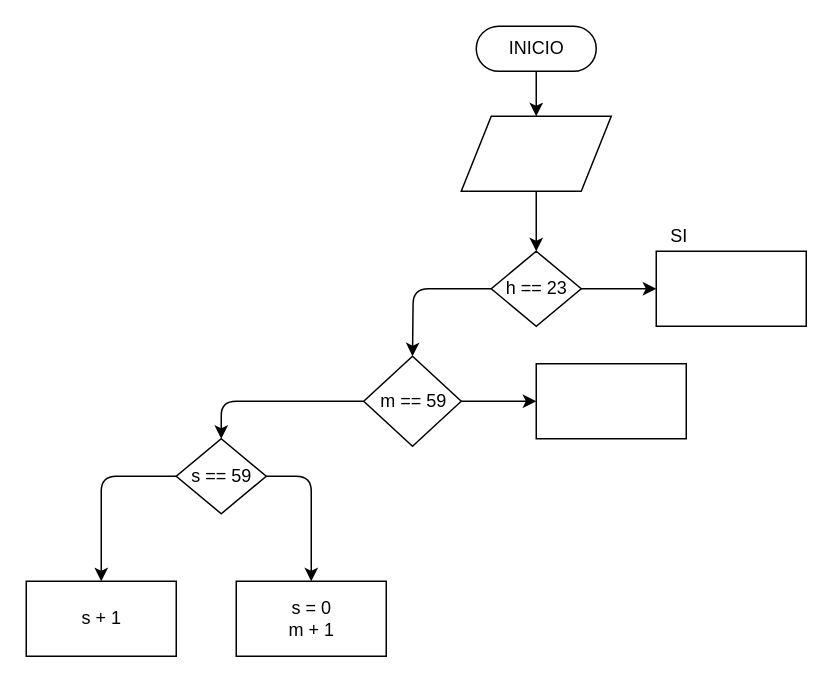
The diagram is 833 pixels wide and 683 high, and some of its shapes have lost their labels. The centre of each missing label's shape, as x and y in pixels:
"h +1 m = 0 s = 0" belongs at point 610,400.
"h m s" belongs at point 535,153.
"m = 0 s= 0" belongs at point 730,288.
